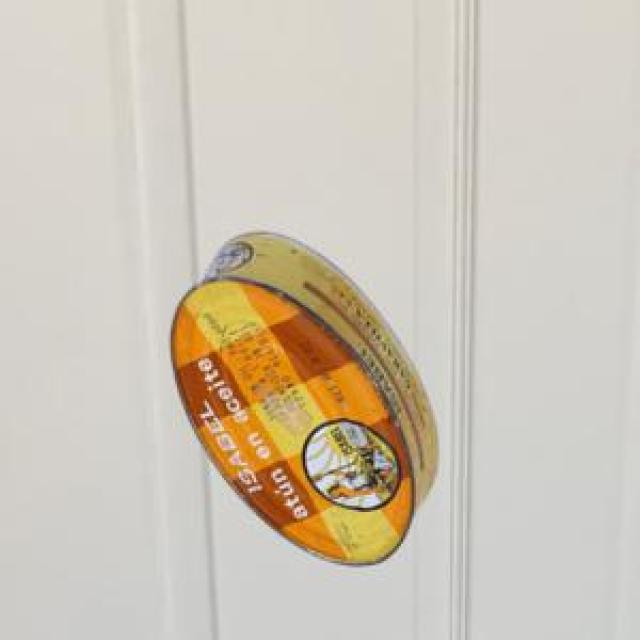logam: (167, 229, 434, 562)
